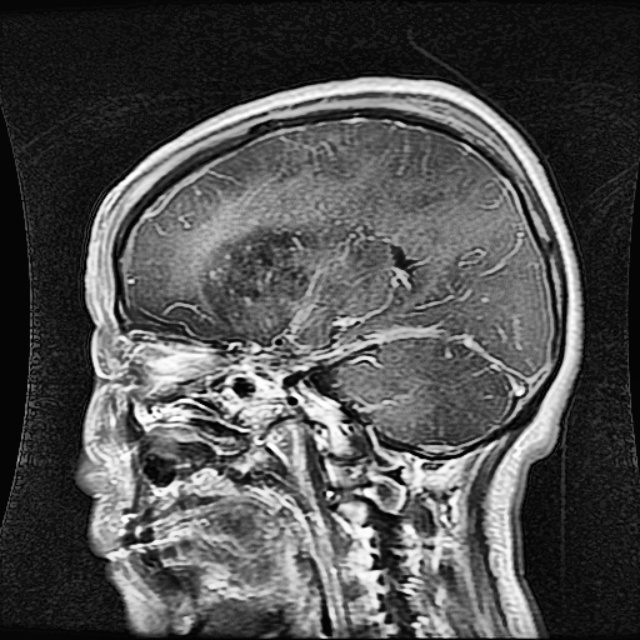Meningioma: (203, 225, 314, 343)
